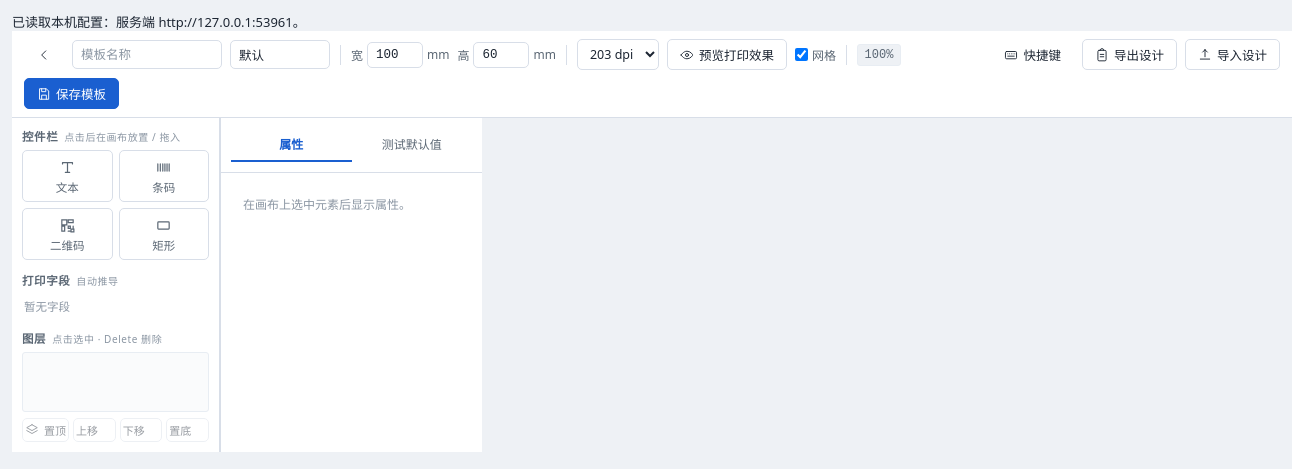
页级保存链路（迭代 92 F-03） › 新建保存成功：查重通过后以最终名保存（契约名 = 模板名），提示并回工作台
Expected: the number field showing "100" is shown, x1=367 y1=42 x2=423 y2=68
In the field with placeholder "模板名称": (147, 54) x1=72 y1=40 x2=222 y2=69, type "新模板"
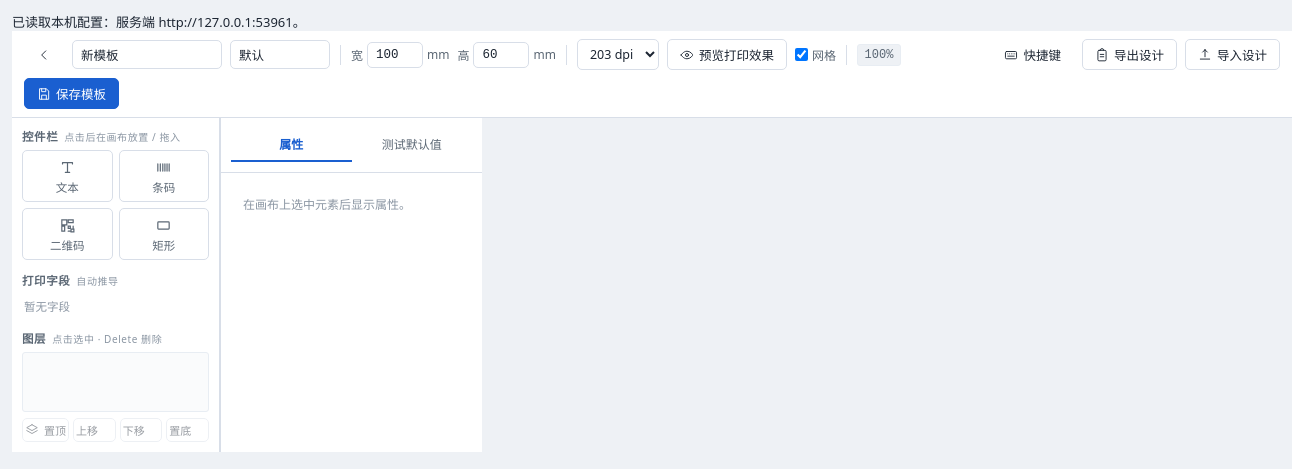
Click the button "保存模板": (72, 94) x1=24 y1=78 x2=119 y2=109
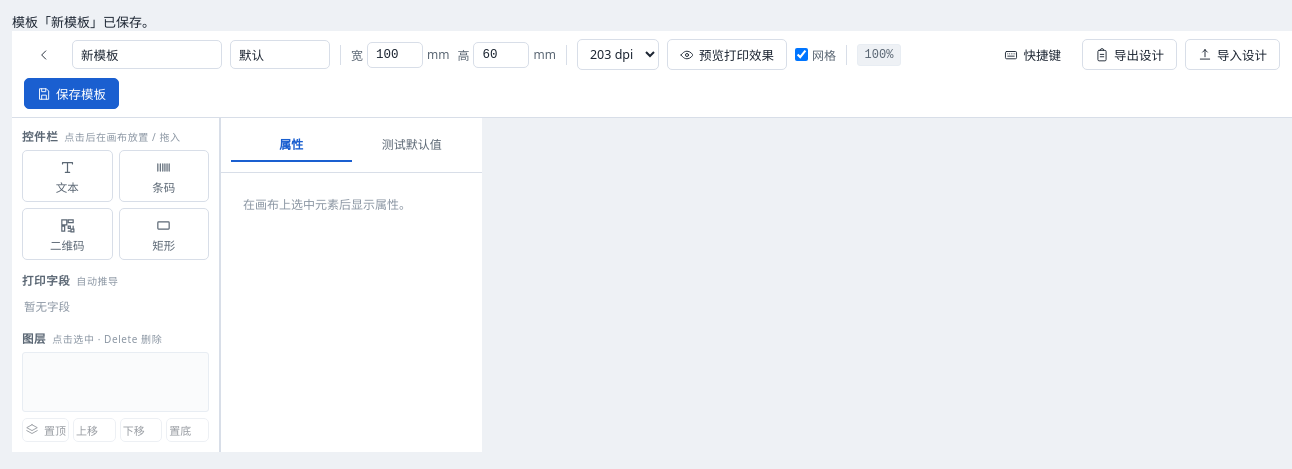
Result: the text with test id "status-msg" shows "模板「新模板」已保存" at x1=12 y1=13 x2=155 y2=31
